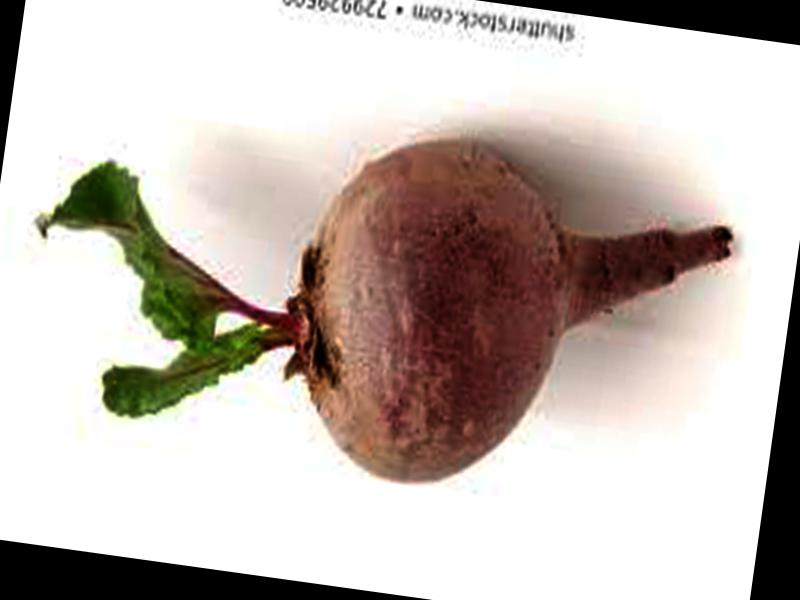Beet: (7, 88, 735, 519)
